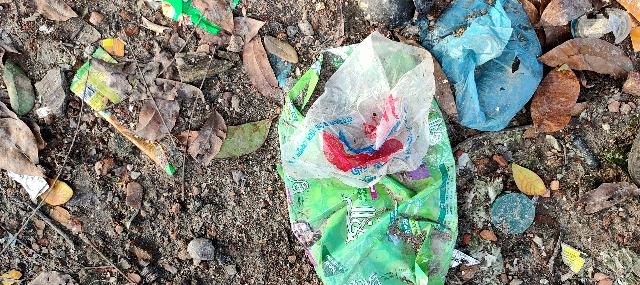polythene: (286, 40, 434, 178)
